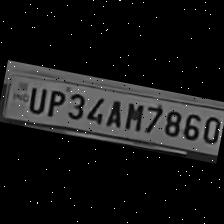0: (198, 110, 224, 146)
3: (62, 88, 86, 120)
4: (83, 92, 108, 125)
6: (179, 108, 203, 143)
7: (138, 100, 163, 136)
8: (158, 106, 183, 139)
A: (102, 96, 126, 129)
M: (120, 100, 144, 132)
P: (43, 86, 67, 118)
U: (24, 83, 48, 116)
